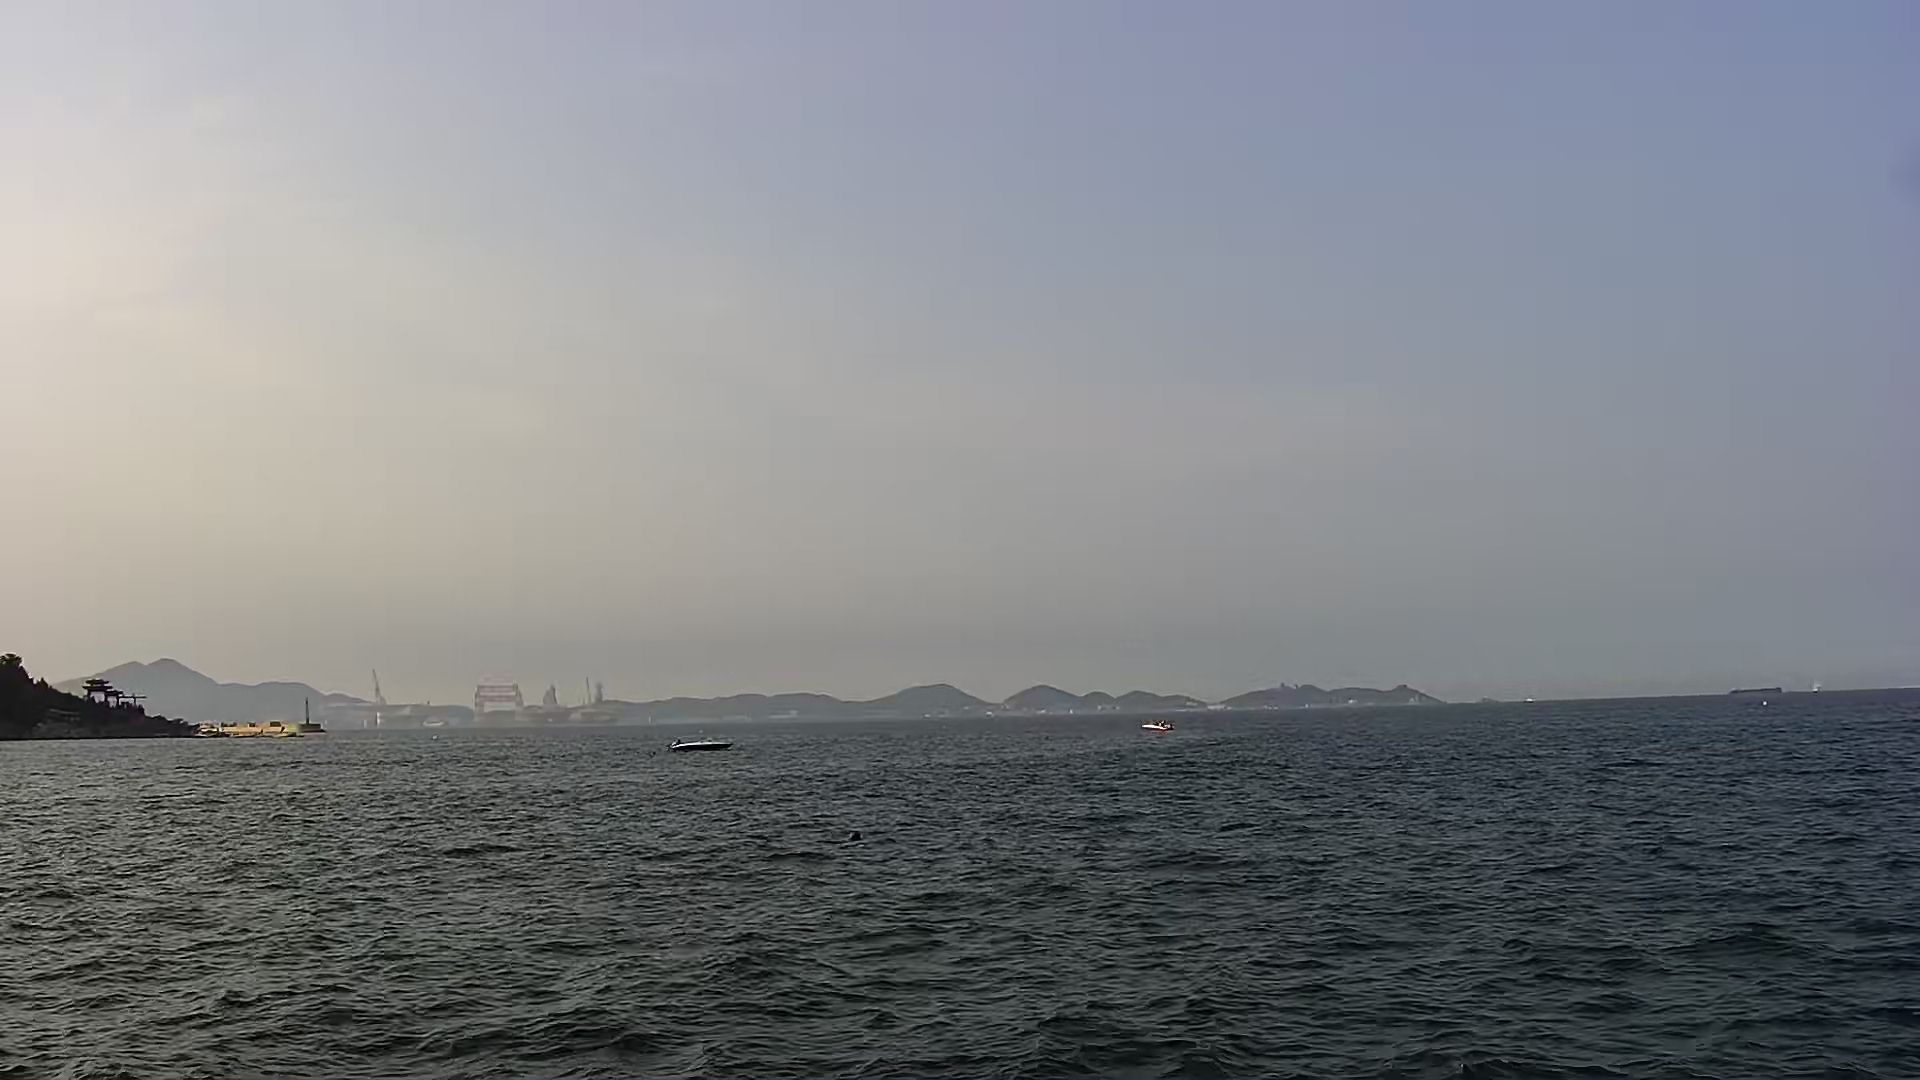boat: (667, 736, 738, 754), (1138, 713, 1182, 742)
